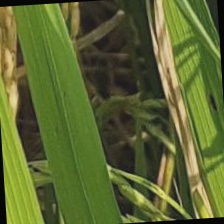Leaf_Blast: (151, 0, 186, 155)
